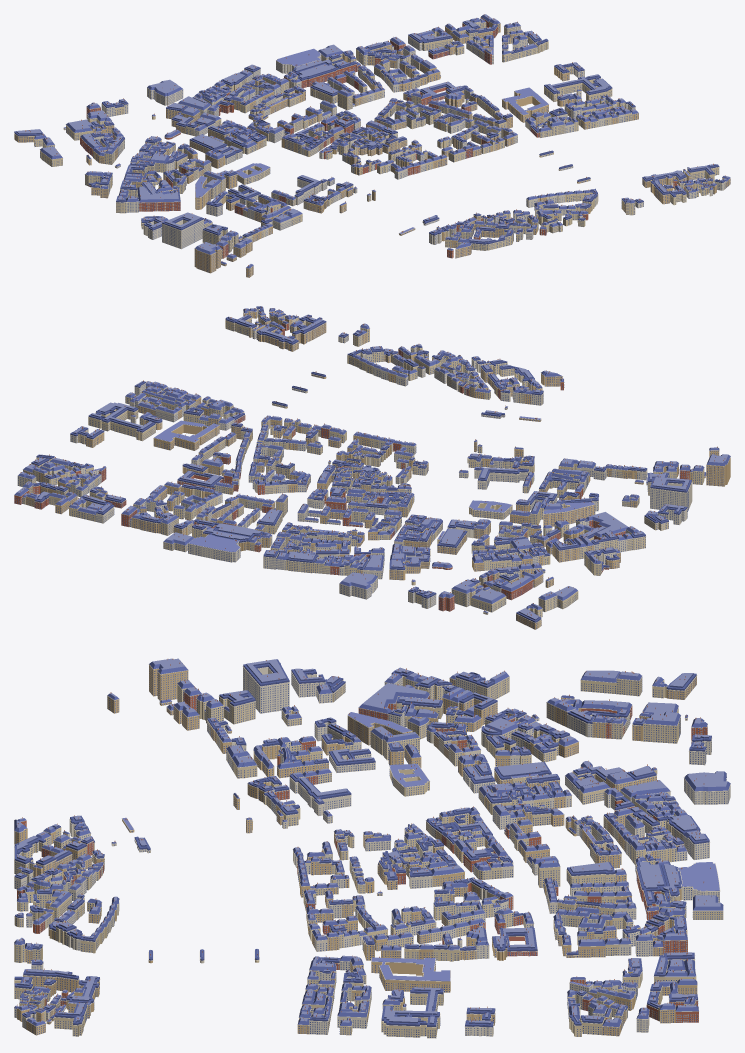
The model's file is altstadt_buildings.glb.
3 views of the same model, one above another, from view 1: azimuth 30°, elevation 25°; view 2: azimuth 150°, elevation 25°; view 3: azimuth 270°, elevation 25° (orthographic). The views are drawn at different scales.
Visible parts, largest first — view 1: roofs_0, roof_tops_0, wall_cream_0, wall_sand_0, wall_pale_0, cornice_1, cornice_0, wall_brick_0, window_panes_6, window_panes_1, window_panes_5, window_panes_0 (+14 smaller); view 2: roofs_0, roof_tops_0, wall_cream_0, wall_sand_0, wall_pale_0, cornice_1, cornice_0, wall_brick_0, window_panes_6, roofs_flat_0, window_panes_0, window_panes_5 (+14 smaller); view 3: roofs_0, roof_tops_0, wall_cream_0, wall_sand_0, wall_pale_0, cornice_1, cornice_0, wall_brick_0, roofs_flat_0, window_panes_6, window_panes_5, window_panes_0 (+14 smaller).
Boxes of the visible parts, box(x1,y1,x2,y2) form: roofs_0: box(14, 15, 730, 268); roof_tops_0: box(16, 14, 728, 265); wall_cream_0: box(34, 22, 719, 252); wall_sand_0: box(14, 21, 730, 277); wall_pale_0: box(94, 22, 725, 249); cornice_1: box(40, 17, 692, 264); cornice_0: box(14, 21, 730, 268); wall_brick_0: box(80, 17, 684, 258); window_panes_6: box(43, 33, 689, 265); window_panes_1: box(15, 30, 730, 276); window_panes_5: box(168, 34, 604, 272); window_panes_0: box(80, 22, 718, 257); roofs_0: box(14, 306, 730, 622); roof_tops_0: box(17, 306, 727, 619); wall_cream_0: box(22, 312, 704, 617); wall_sand_0: box(23, 311, 730, 629); wall_pale_0: box(17, 309, 692, 608); cornice_1: box(14, 317, 730, 613); cornice_0: box(23, 307, 719, 623); wall_brick_0: box(14, 323, 690, 611); window_panes_6: box(33, 323, 706, 614); roofs_flat_0: box(74, 324, 594, 552); window_panes_0: box(28, 316, 564, 606); window_panes_5: box(48, 353, 723, 573); roofs_0: box(14, 661, 730, 1027); roof_tops_0: box(15, 658, 727, 1022); wall_cream_0: box(14, 676, 723, 1038); wall_sand_0: box(14, 665, 697, 1036); wall_pale_0: box(14, 667, 730, 1036); cornice_1: box(14, 660, 730, 1027); cornice_0: box(14, 671, 712, 1027); wall_brick_0: box(17, 692, 707, 1022); roofs_flat_0: box(68, 712, 719, 1003); window_panes_6: box(15, 668, 728, 1037); window_panes_5: box(56, 666, 719, 1016); window_panes_0: box(15, 708, 696, 1036).
Bounding box in the file's own units: 1116 × 46.48 × 954.
